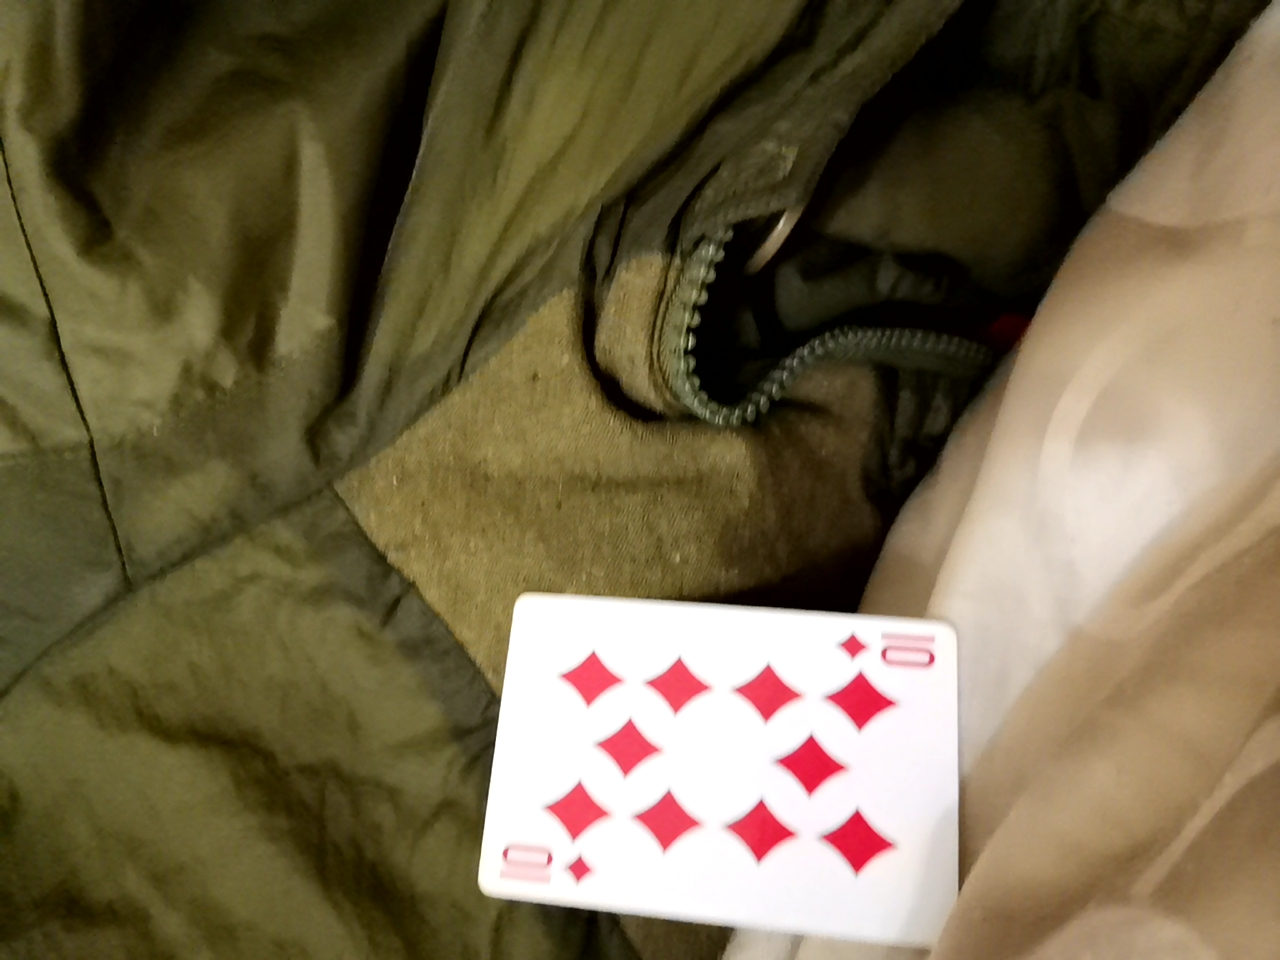fk 10: (461, 624, 959, 959)
